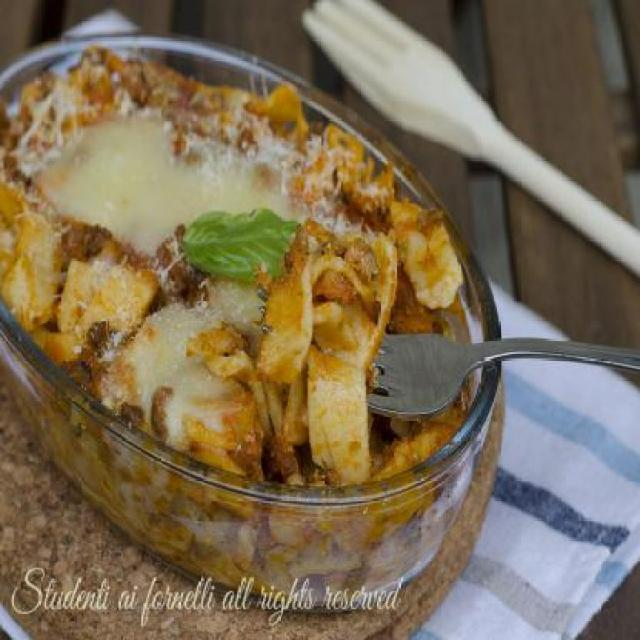Pasta al ragu: (20, 66, 502, 566)
